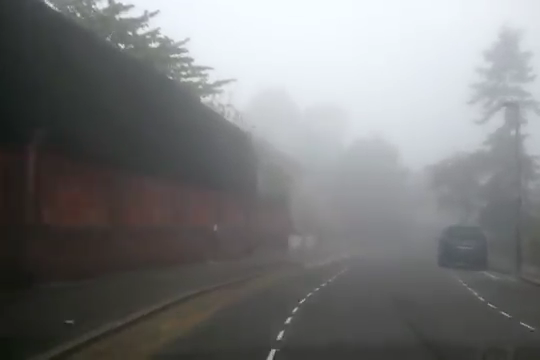car: (438, 223, 489, 270)
